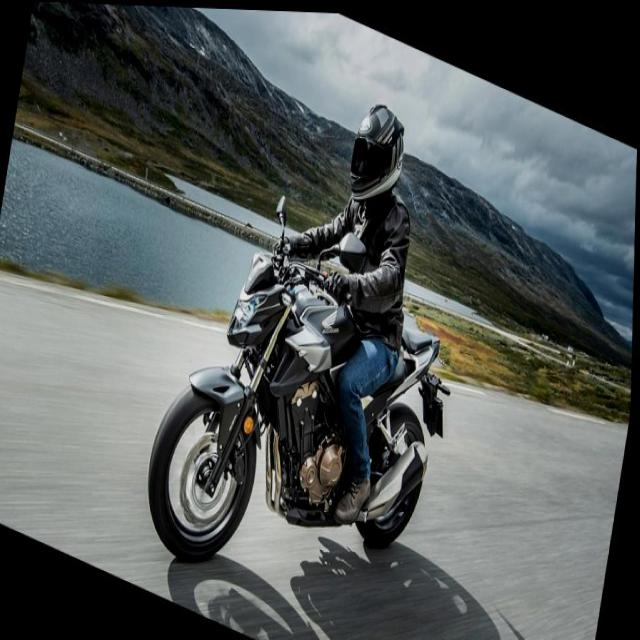CB500F: (136, 212, 458, 639)
